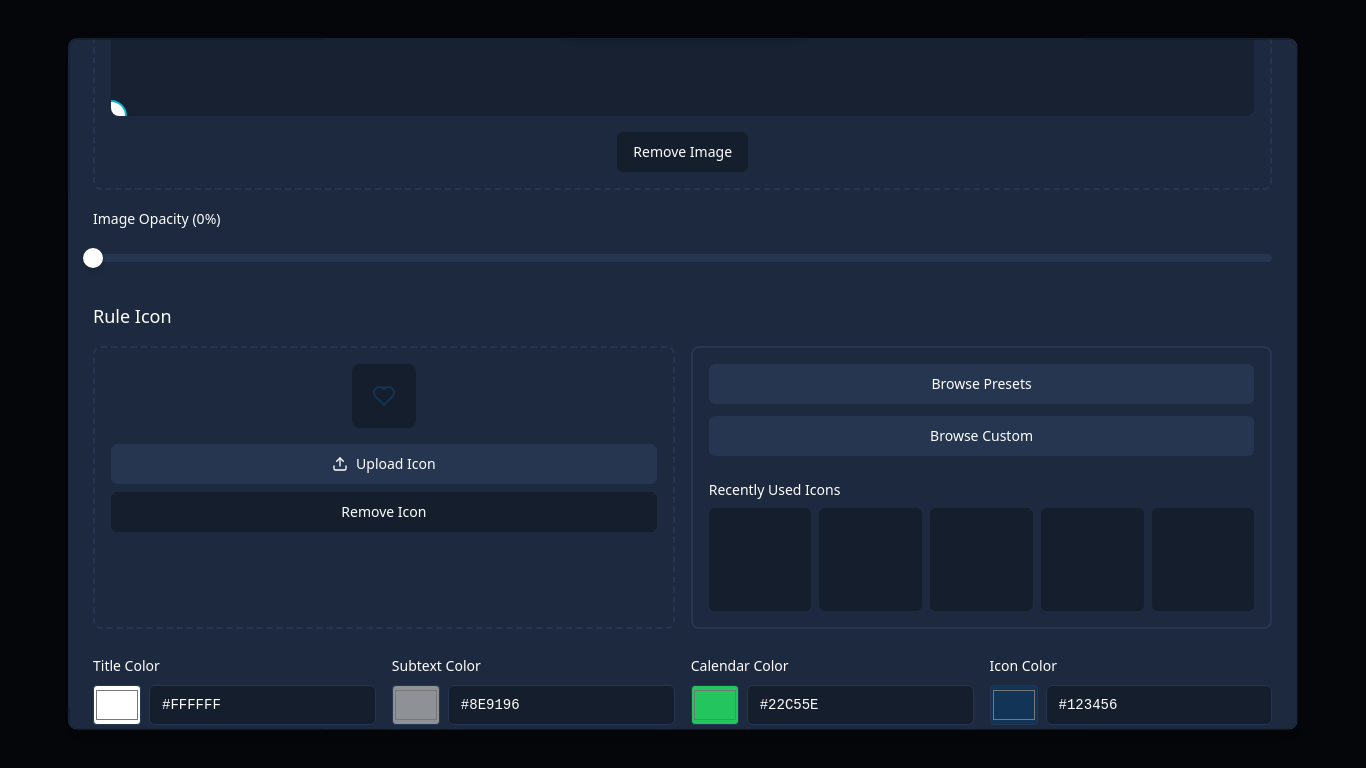
Test: actual rule editor theme › keeps original nested preset and delete dialog colors, saved icon color and cancellation behavior
This screenshot has width=1366, height=768.
(page scrolled)
Click the button "Browse Presets": (982, 384) x1=709 y1=364 x2=1255 y2=404
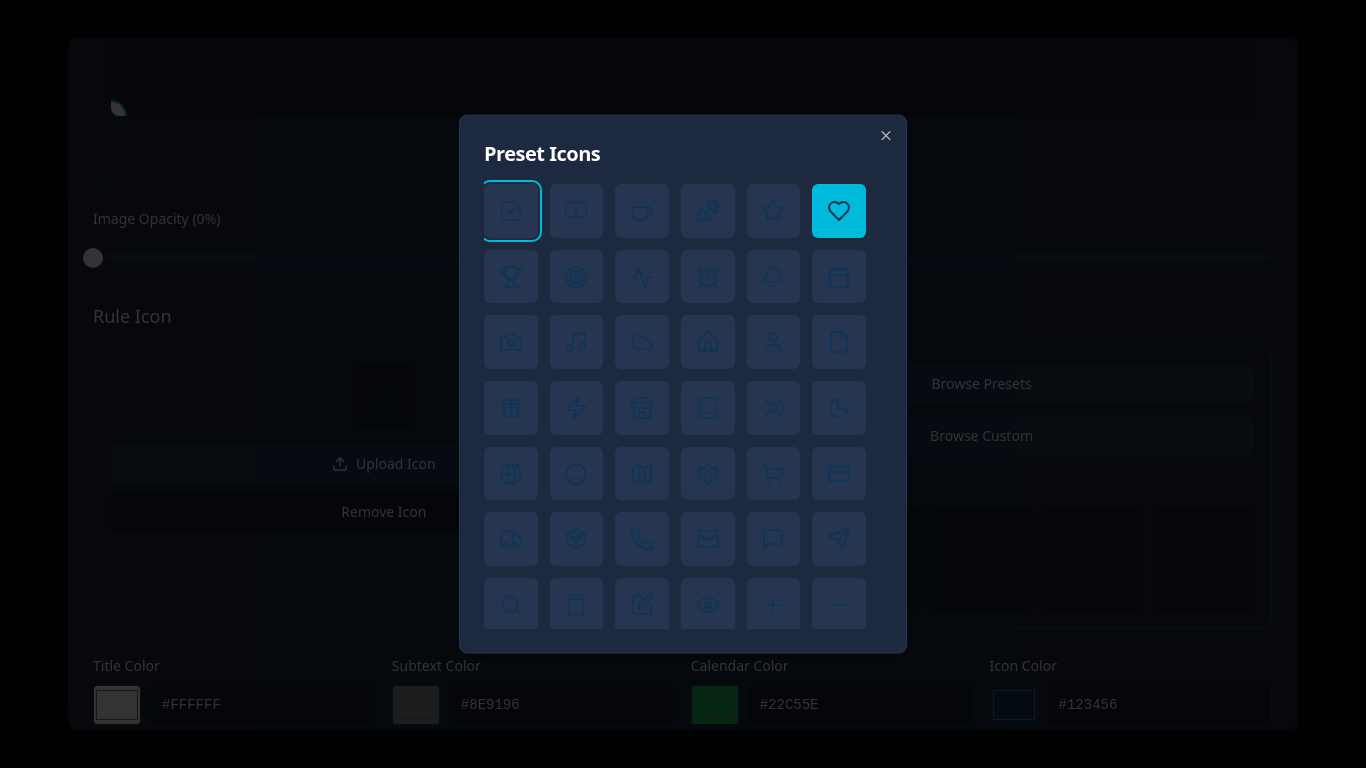
Click the button named "Select Heart icon": (839, 210) x1=812 y1=184 x2=866 y2=237
(page scrolled)
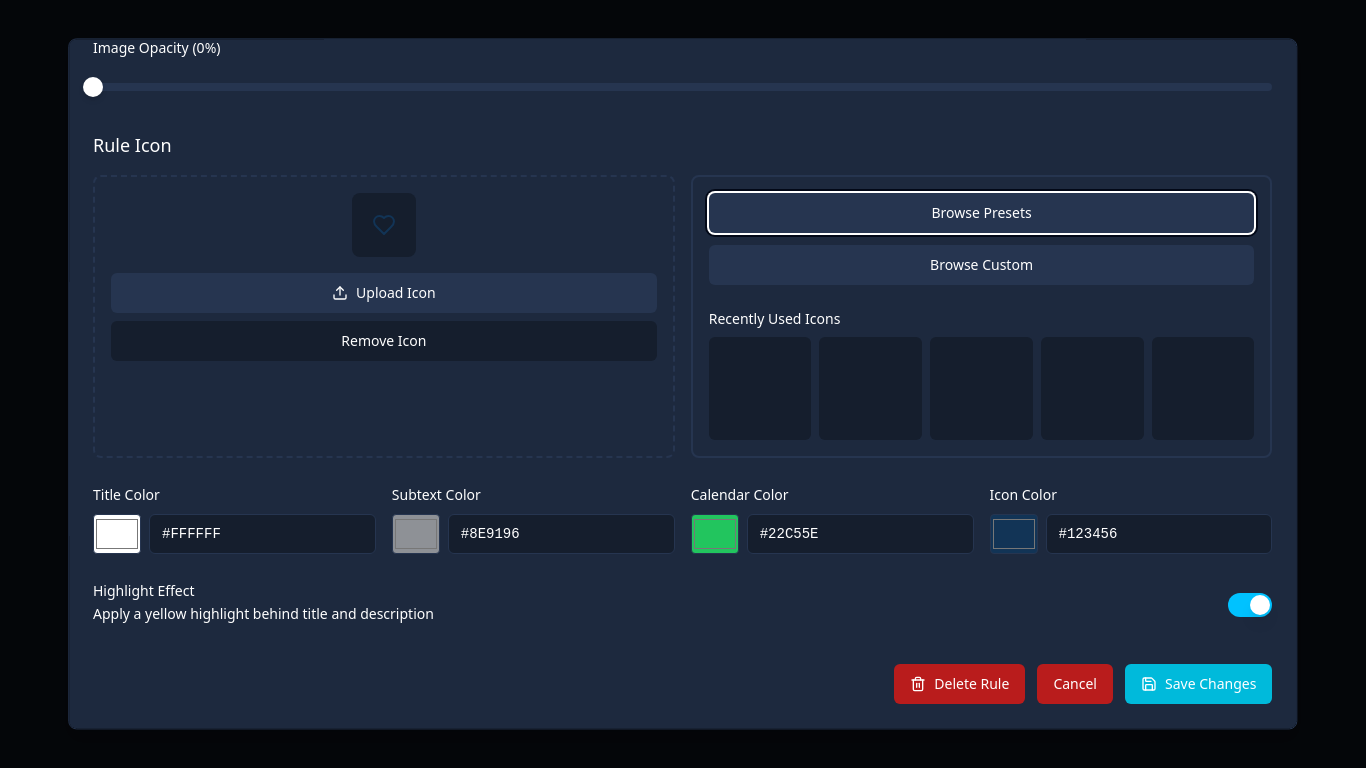
Click the button "Delete Rule": (960, 684) x1=895 y1=664 x2=1026 y2=704
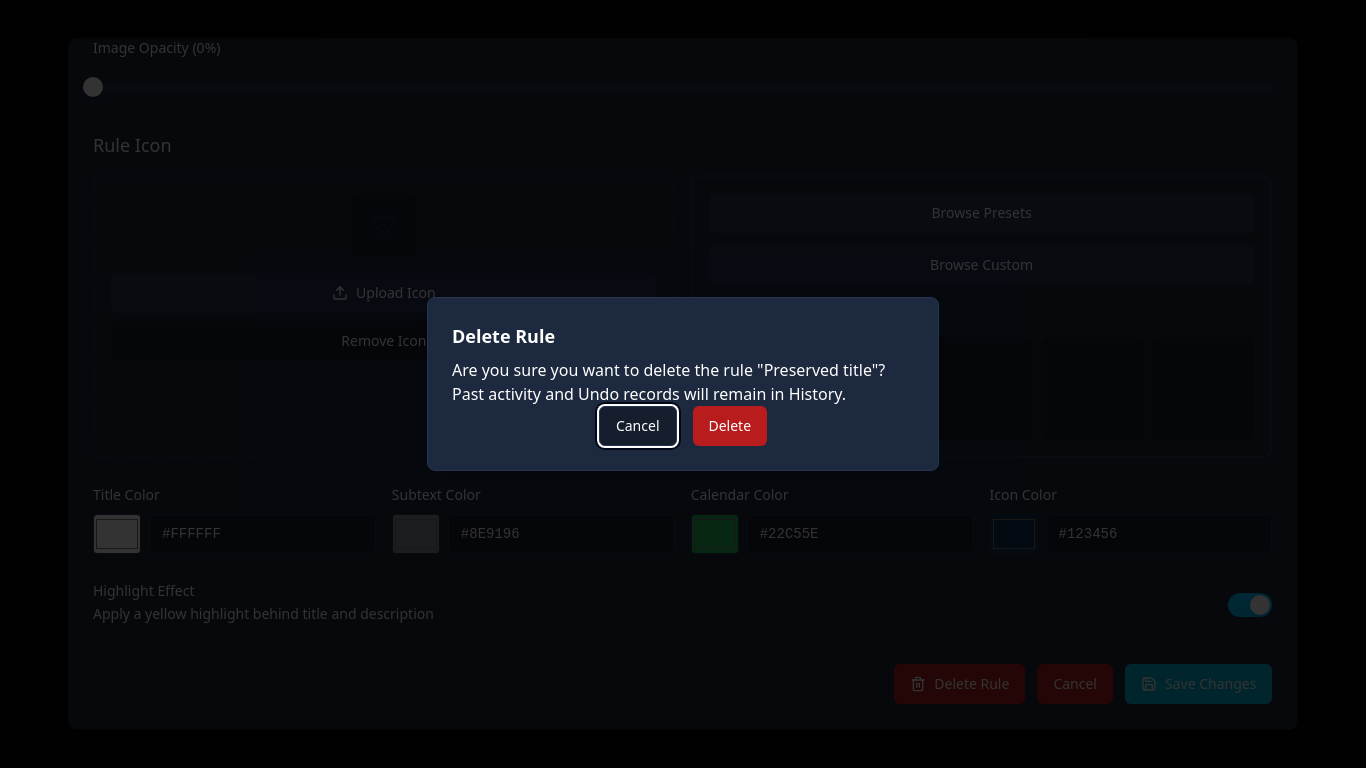
Click the button "Cancel": (638, 426) x1=599 y1=406 x2=676 y2=446
(page scrolled)
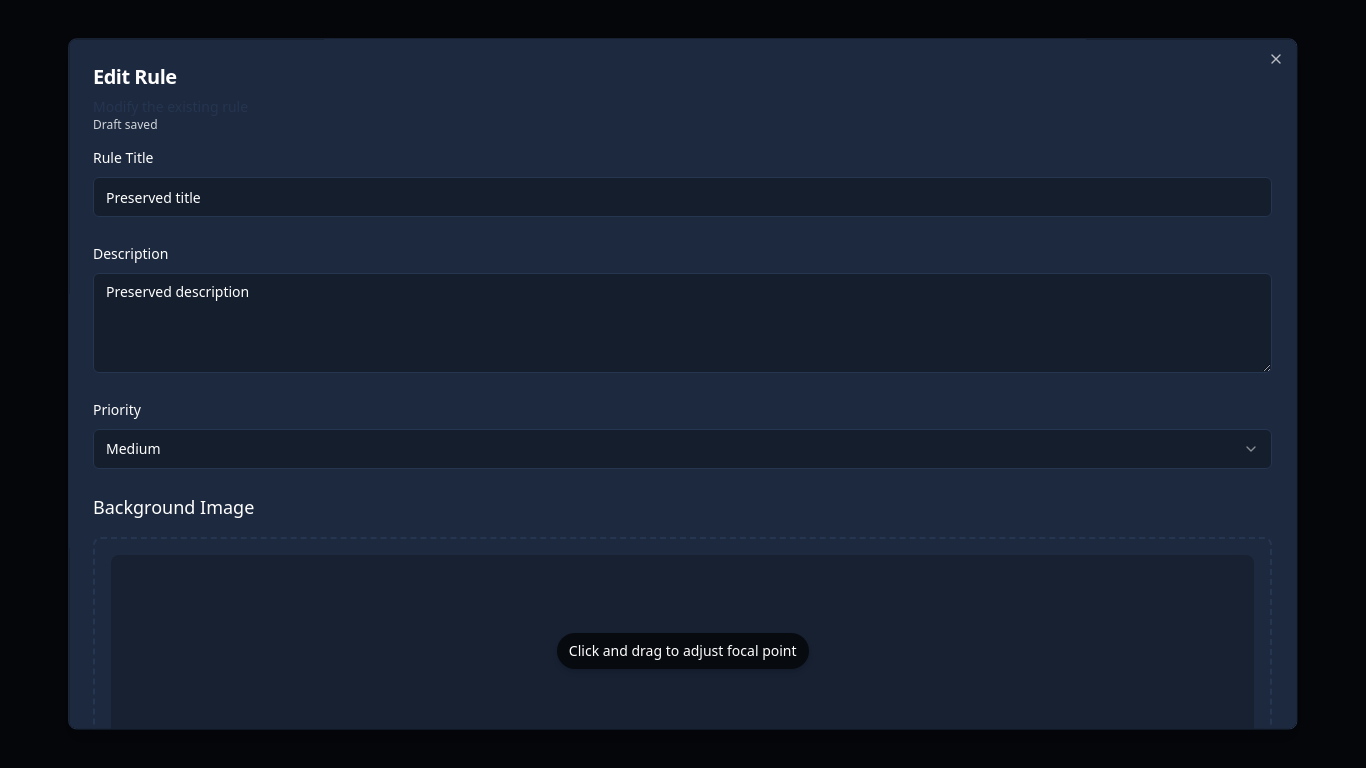
expect the field labelled "Rule Title" is shown: met, box x1=93 y1=177 x2=1273 y2=217
